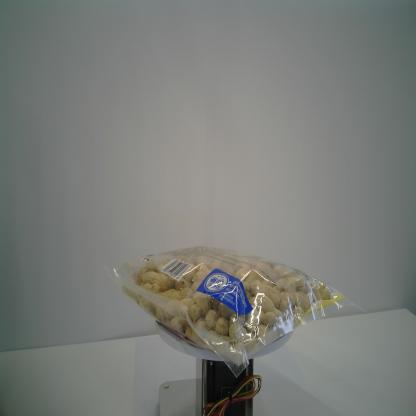Dried Food: (104, 243, 364, 379)
